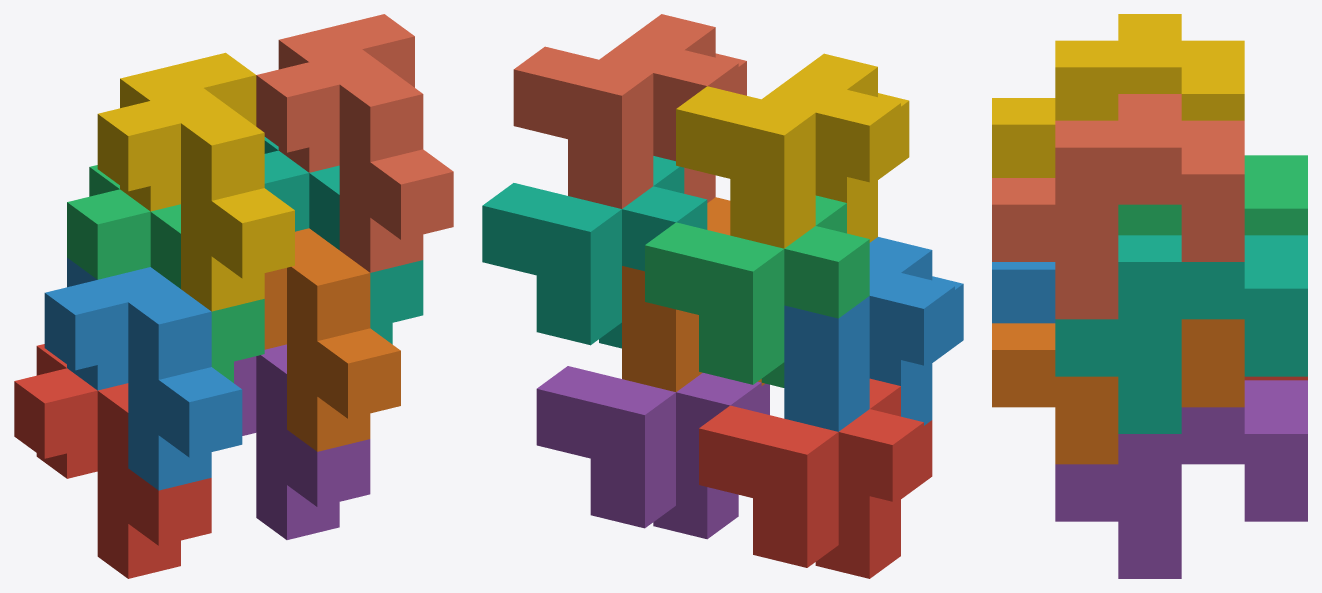
File: tiling.obj
3 views of the same model, side by side, from view 1: azimuth 30°, elevation 25°; view 2: azimuth 150°, elevation 25°; view 3: azimuth 270°, elevation 25° (orthographic). The views are drawn at different scales.
Parts seen in each view (by area): view 1: copy_1_domain_8, copy_1_domain_4, copy_1_domain_2, copy_1_domain_6, copy_1_domain_1, copy_1_domain_5, copy_1_domain_3, copy_1_domain_7; view 2: copy_1_domain_4, copy_1_domain_1, copy_1_domain_8, copy_1_domain_5, copy_1_domain_3, copy_1_domain_2, copy_1_domain_7, copy_1_domain_6; view 3: copy_1_domain_8, copy_1_domain_7, copy_1_domain_5, copy_1_domain_4, copy_1_domain_6, copy_1_domain_3, copy_1_domain_2.
Part boxes in pixels (<box>): copy_1_domain_8: <box>256,14,453,272</box>; copy_1_domain_4: <box>97,52,294,311</box>; copy_1_domain_2: <box>44,257,242,490</box>; copy_1_domain_6: <box>264,228,400,451</box>; copy_1_domain_1: <box>14,344,211,578</box>; copy_1_domain_5: <box>234,344,370,539</box>; copy_1_domain_3: <box>67,165,264,382</box>; copy_1_domain_7: <box>264,137,423,344</box>; copy_1_domain_4: <box>676,53,909,248</box>; copy_1_domain_1: <box>699,378,932,578</box>; copy_1_domain_8: <box>513,14,746,208</box>; copy_1_domain_5: <box>536,366,769,539</box>; copy_1_domain_3: <box>645,195,869,387</box>; copy_1_domain_2: <box>784,237,963,431</box>; copy_1_domain_7: <box>482,156,707,348</box>; copy_1_domain_6: <box>622,197,764,391</box>; copy_1_domain_8: <box>992,94,1244,319</box>; copy_1_domain_7: <box>1055,235,1307,433</box>; copy_1_domain_5: <box>1055,380,1307,578</box>; copy_1_domain_4: <box>992,14,1244,177</box>; copy_1_domain_6: <box>992,319,1244,464</box>; copy_1_domain_3: <box>1118,155,1307,235</box>; copy_1_domain_2: <box>992,262,1055,323</box>.
Bounding box in the file's own units: 7 × 8 × 5.
